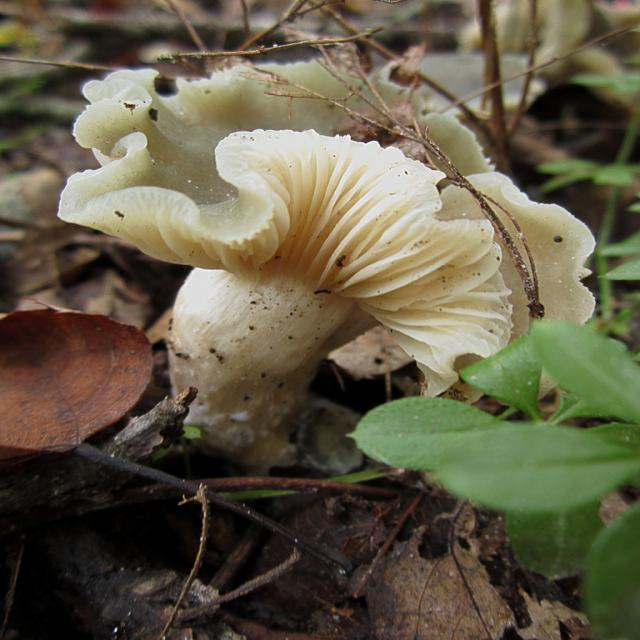Mushroom: (58, 60, 592, 477)
